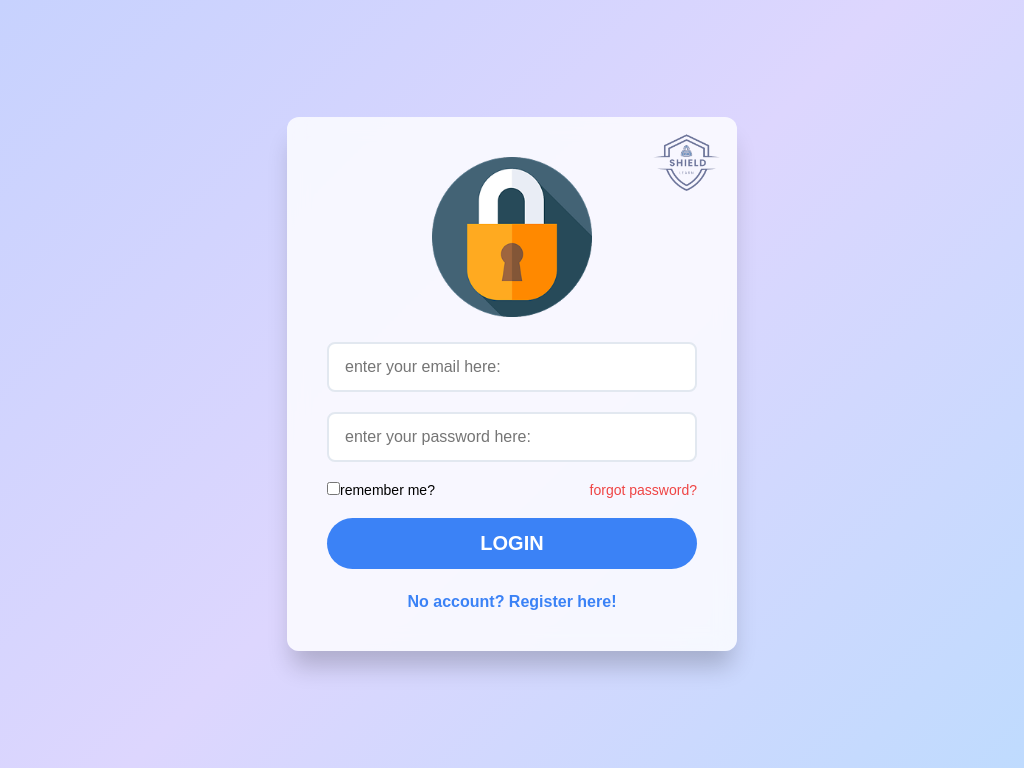
Test case: Login component › displays an error message when login fails
The width and height of the screenshot is (1024, 768).
Type "user@example.com" into the field with placeholder "enter your email here:" at (512, 367), box [327, 342, 697, 392]
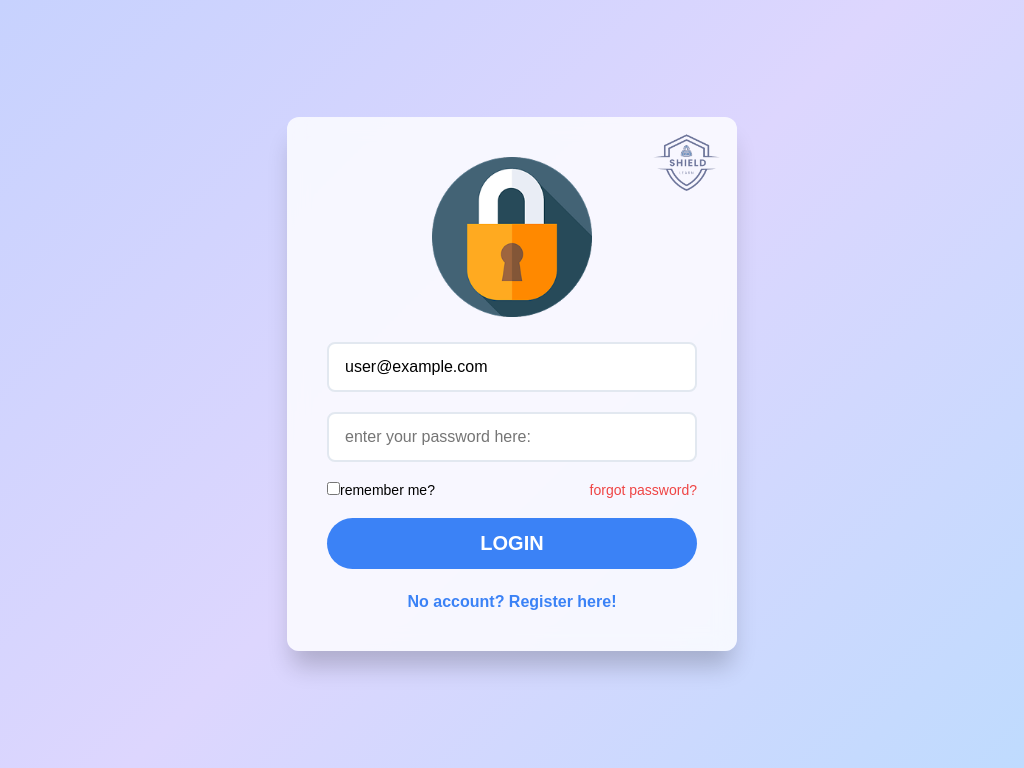
Type "wrongpassword" into the password field with placeholder "enter your password here:" at (512, 437), box [327, 412, 697, 462]
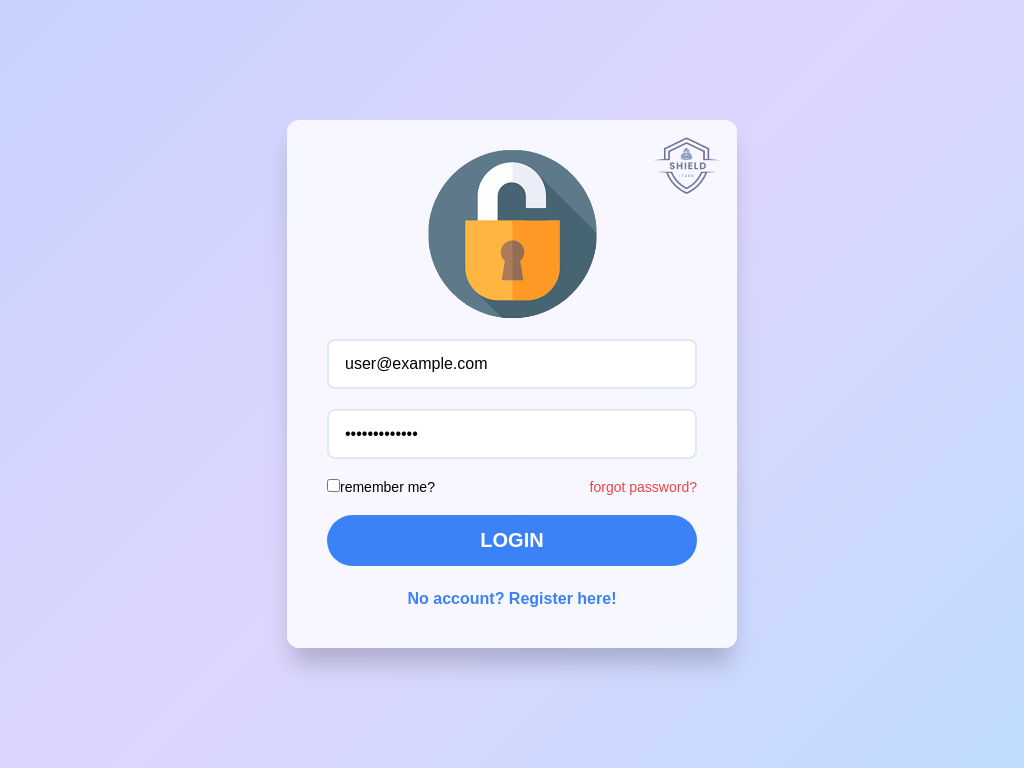
Click the button "LOGIN" at (512, 540), box [327, 515, 697, 566]
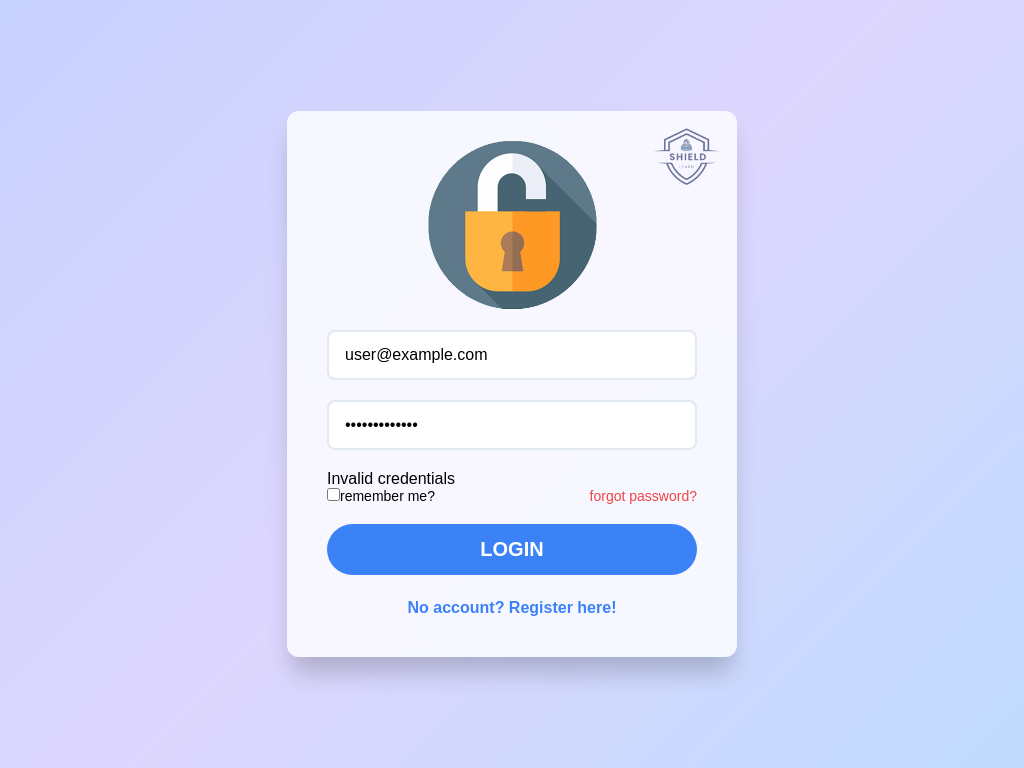
Now the text "Invalid credentials" is shown, box [327, 470, 455, 487]
